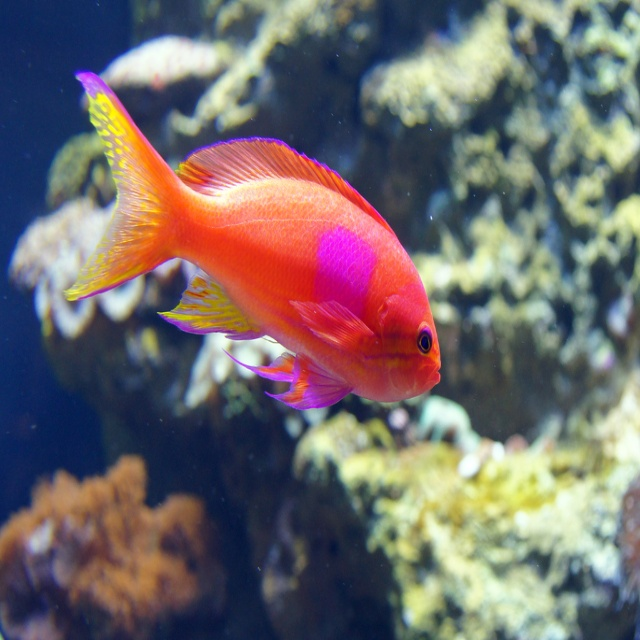Goldfish: (62, 88, 440, 421)
